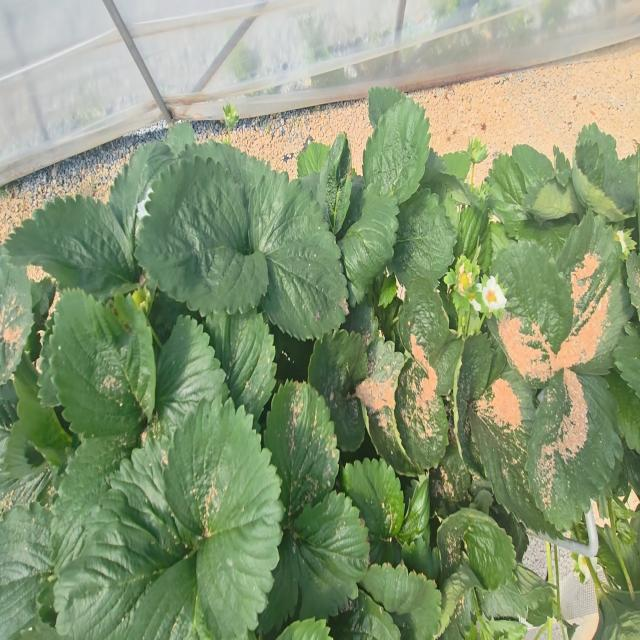Flowers: (454, 255, 482, 311), (482, 276, 507, 312), (577, 555, 600, 583)
Leaves: (53, 439, 197, 639), (164, 399, 282, 639), (136, 156, 268, 315), (248, 170, 348, 340), (43, 290, 156, 437), (526, 370, 622, 530), (467, 364, 556, 533), (4, 197, 141, 298), (555, 213, 633, 374), (491, 241, 573, 382), (51, 438, 129, 574), (264, 381, 339, 520), (292, 491, 369, 618), (151, 316, 228, 439), (354, 339, 422, 475), (206, 309, 276, 420), (336, 176, 398, 299), (109, 142, 176, 252), (308, 329, 367, 451), (0, 503, 52, 639), (363, 98, 430, 203), (388, 190, 457, 287), (181, 141, 288, 199), (437, 508, 514, 588), (457, 332, 500, 475), (361, 563, 441, 639), (394, 357, 448, 469), (342, 458, 404, 540), (399, 277, 454, 366), (0, 249, 33, 385), (317, 134, 351, 234), (396, 476, 429, 544), (429, 334, 463, 395), (489, 153, 527, 206), (512, 145, 554, 191), (368, 87, 406, 128), (402, 537, 439, 579), (297, 140, 330, 177), (164, 122, 195, 156), (442, 151, 471, 180)
Strawberries: (132, 284, 155, 319), (467, 139, 488, 167), (223, 103, 239, 132)
